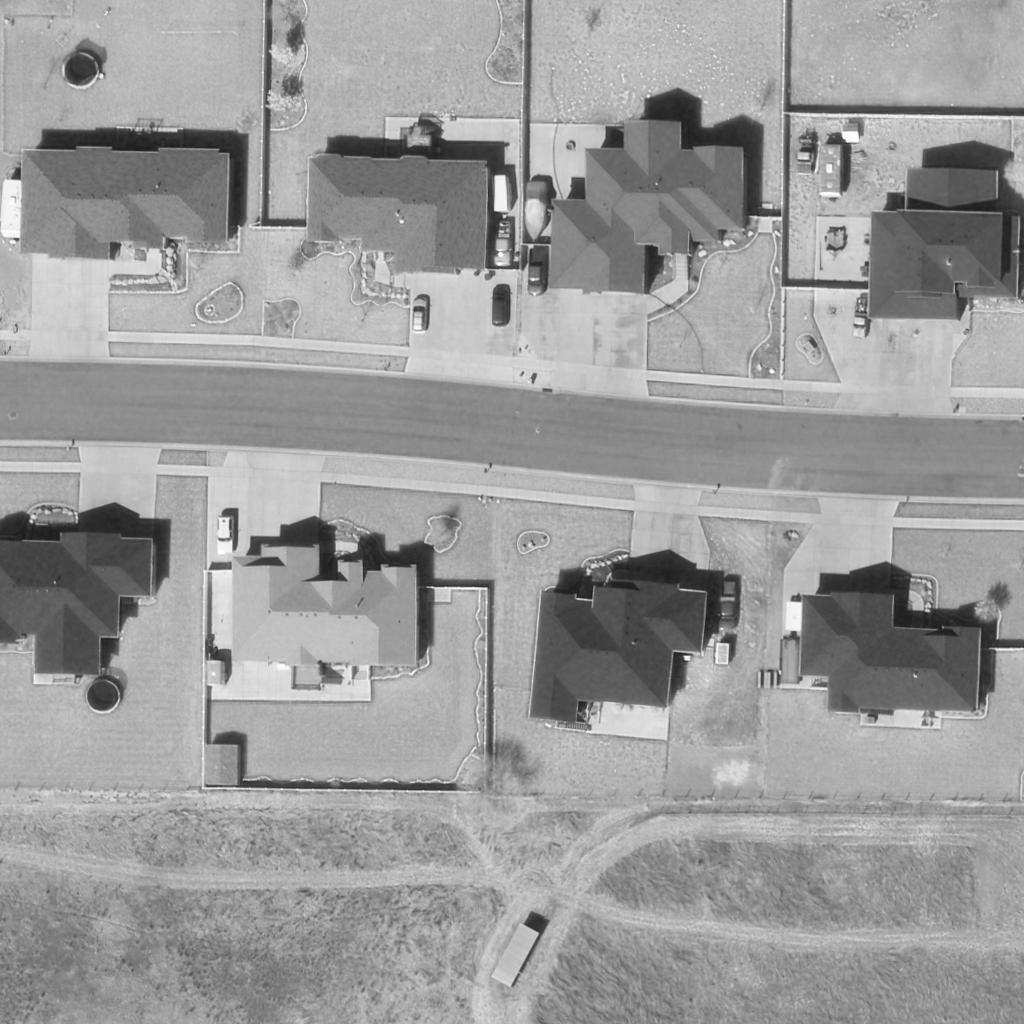vehicle: (526, 179, 550, 243), (820, 141, 844, 199), (795, 127, 821, 177), (527, 249, 549, 297), (854, 292, 876, 340), (491, 219, 513, 265), (490, 174, 514, 216), (718, 581, 738, 631), (491, 285, 511, 329), (218, 514, 234, 554), (414, 297, 428, 335)
